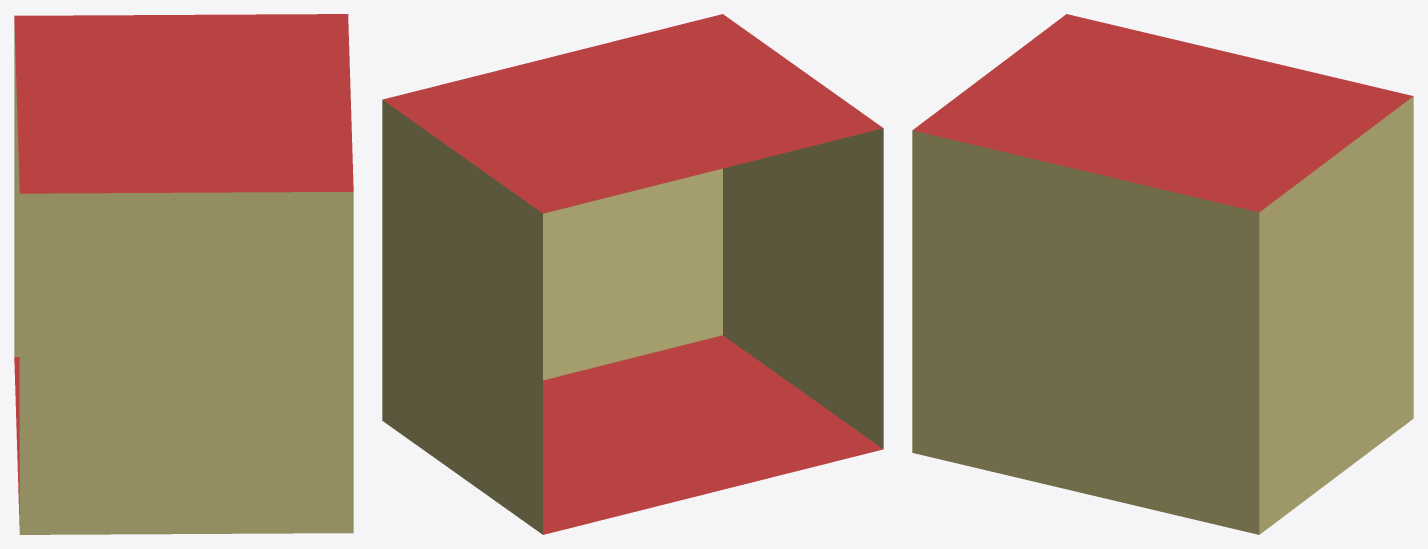
3 renders of one model, left to right at view 1: azimuth 30°, elevation 25°; view 2: azimuth 150°, elevation 25°; view 3: azimuth 270°, elevation 25°, orthographic. The views are drawn at different scales.
Parts seen in each view (by area): view 1: group_4, group_3, group_5; view 2: group_4, group_3, group_5; view 3: group_4, group_3.
Part boxes in pixels (x1,y1,x2,y2): group_4: (14, 22, 353, 534); group_3: (14, 14, 353, 193); group_5: (14, 357, 19, 525); group_4: (382, 100, 883, 534); group_3: (382, 14, 882, 213); group_5: (543, 335, 882, 534); group_4: (912, 96, 1413, 534); group_3: (913, 14, 1413, 212).
Size of the model in its own units: 12.68 by 13.53 by 9.61.
